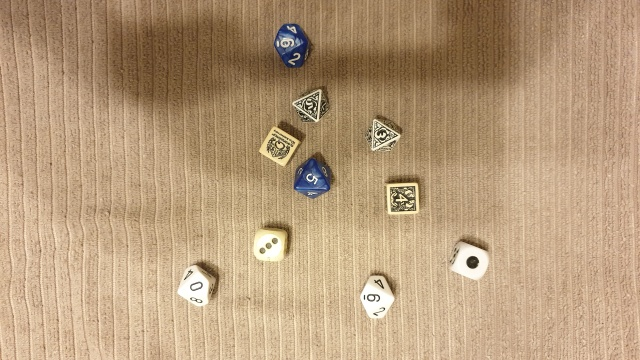d10-10: (175, 261, 218, 311)
d10-5: (289, 155, 333, 201)
d10-6: (270, 17, 312, 72), (358, 272, 397, 323)
d6-1: (445, 238, 490, 284)
d6-3: (250, 224, 292, 267)
d6p-4: (382, 180, 420, 217)
d6p-6: (254, 124, 301, 170)
d8p-3: (362, 113, 403, 156)
d8p-5: (288, 86, 332, 128)
